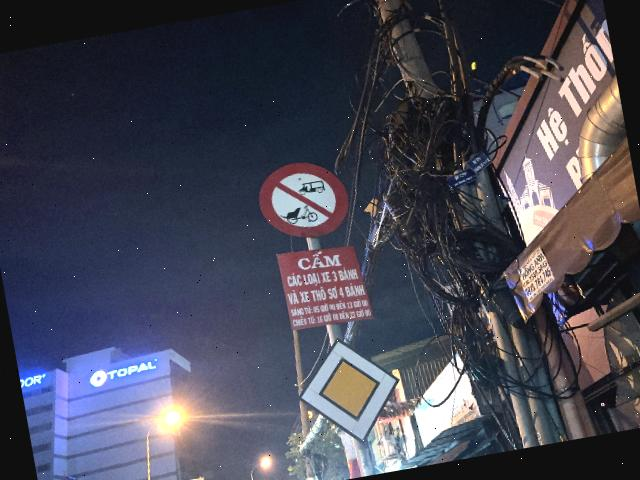bat-dau-duong-uu-tien: (288, 326, 410, 454)
cam-xe-3-banh-xe-tho-so-4-banh: (252, 154, 354, 244)
